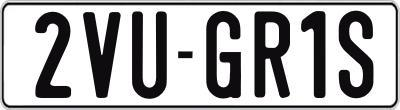1: (301, 9, 330, 96)
2: (32, 10, 69, 96)
G: (205, 10, 244, 97)
R: (255, 10, 290, 98)
S: (336, 11, 372, 103)
U: (130, 10, 169, 103)
V: (80, 12, 118, 101)
